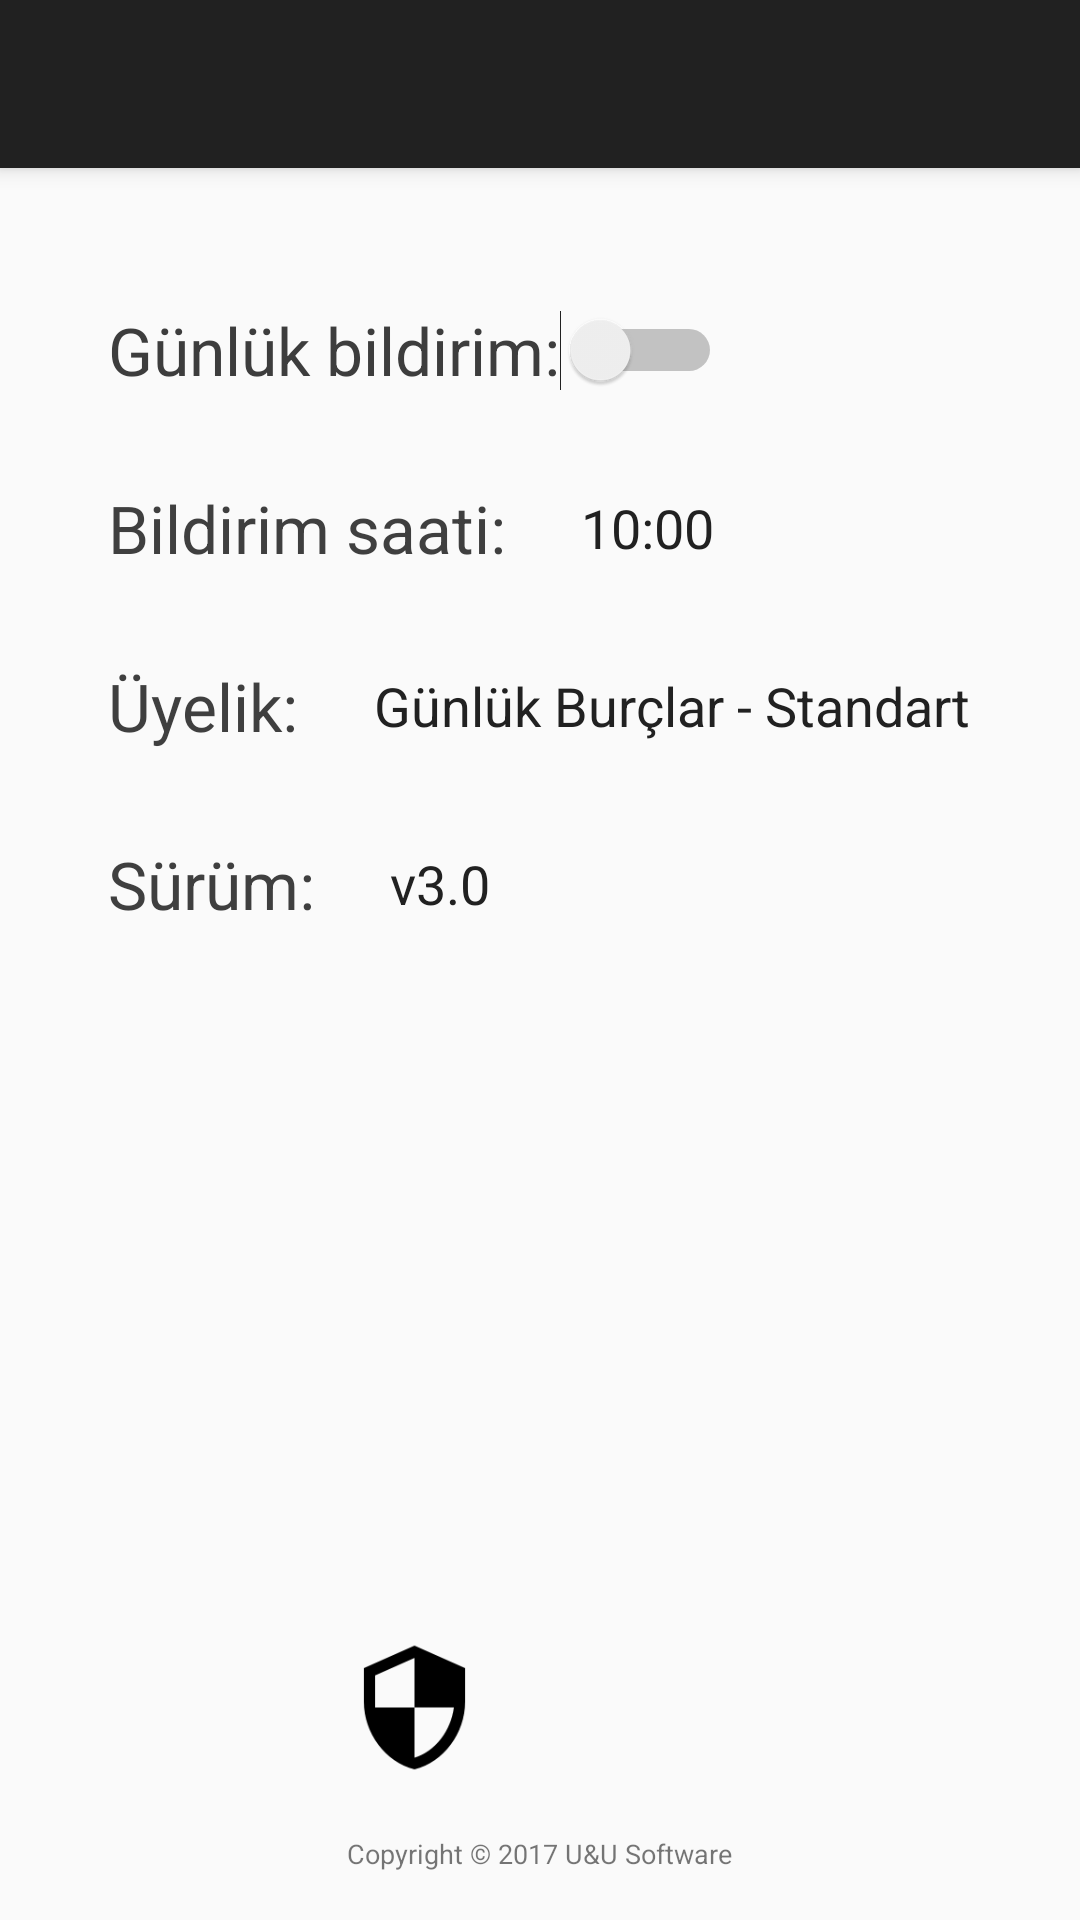

Icon click points for this 1080*1920 phone screenshot, format (x=x, y=y):
privacy: (x=414, y=1707)
